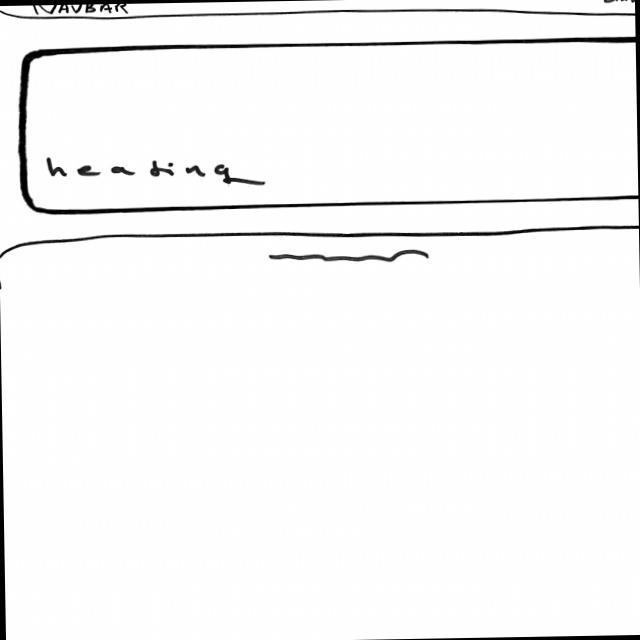container: (18, 34, 638, 214), (0, 0, 634, 25)
label: (42, 152, 268, 190), (29, 3, 129, 15), (602, 0, 634, 4)
text: (264, 247, 430, 266)
